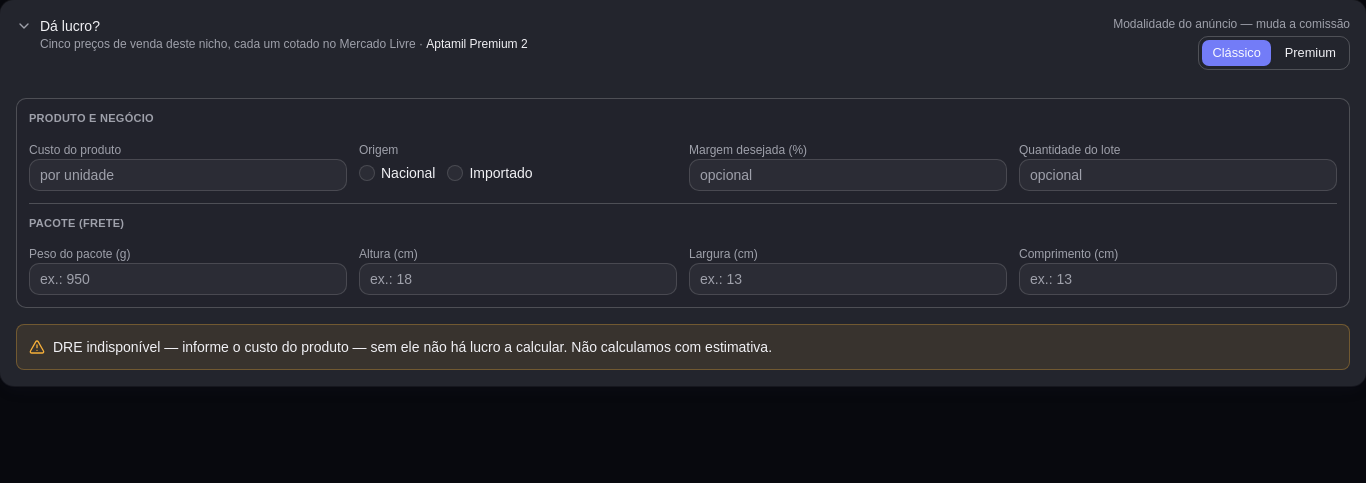
Test: SonarDre — pacote e peso (D-16) › dimensão zerada recusa em vez de derrubar a tela
The width and height of the screenshot is (1366, 483).
Type "42" into the field labelled "Custo do produto" at (188, 175), box [29,159,347,191]
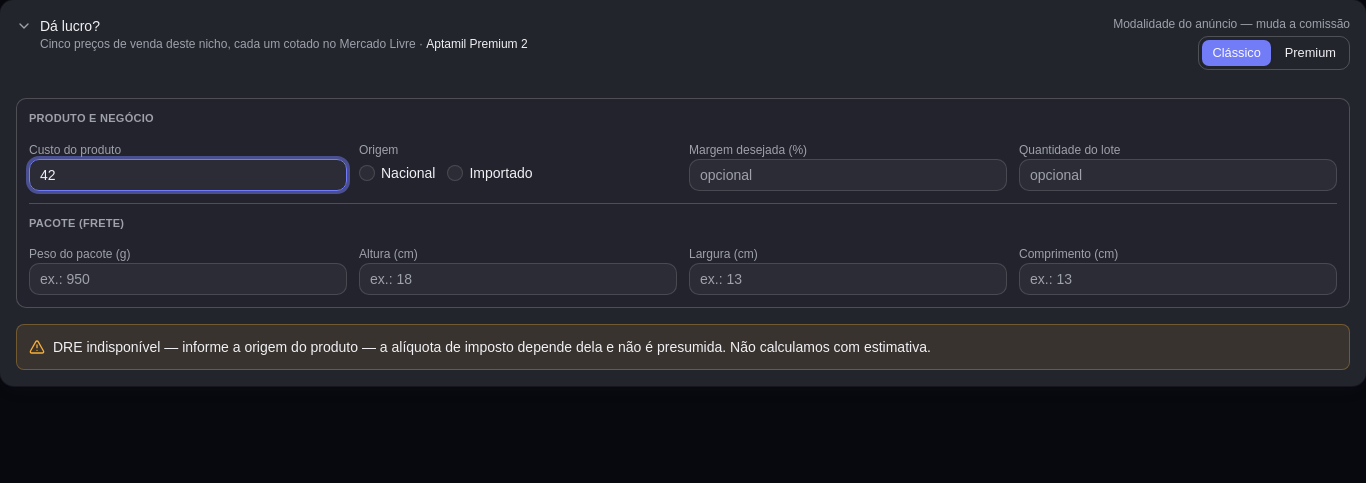
Click the radio button named "nacional" next to "Nacional" at (367, 173), box [359,165,375,181]
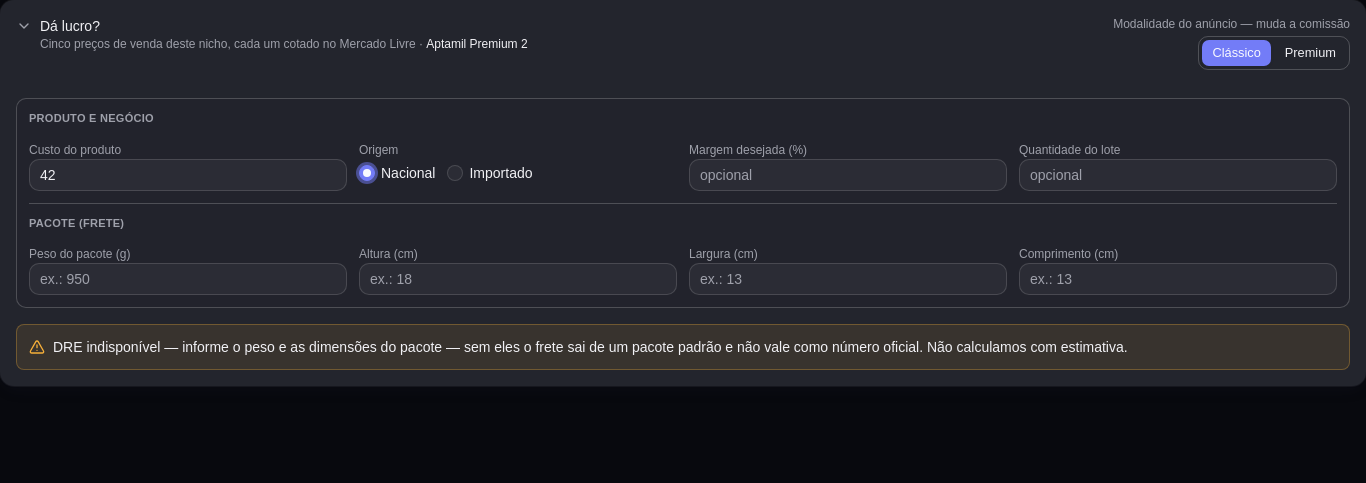
Type "950" into the field labelled "Peso do pacote (g)" at (188, 279), box [29,263,347,295]
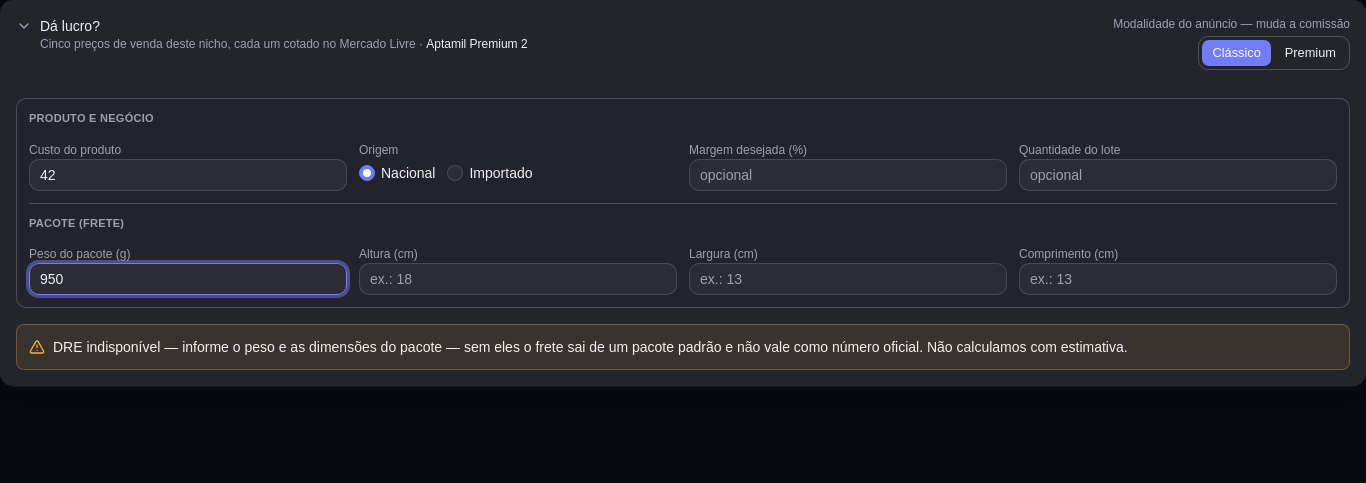
Type "0" into the field labelled "Altura (cm)" at (518, 279), box [359,263,677,295]
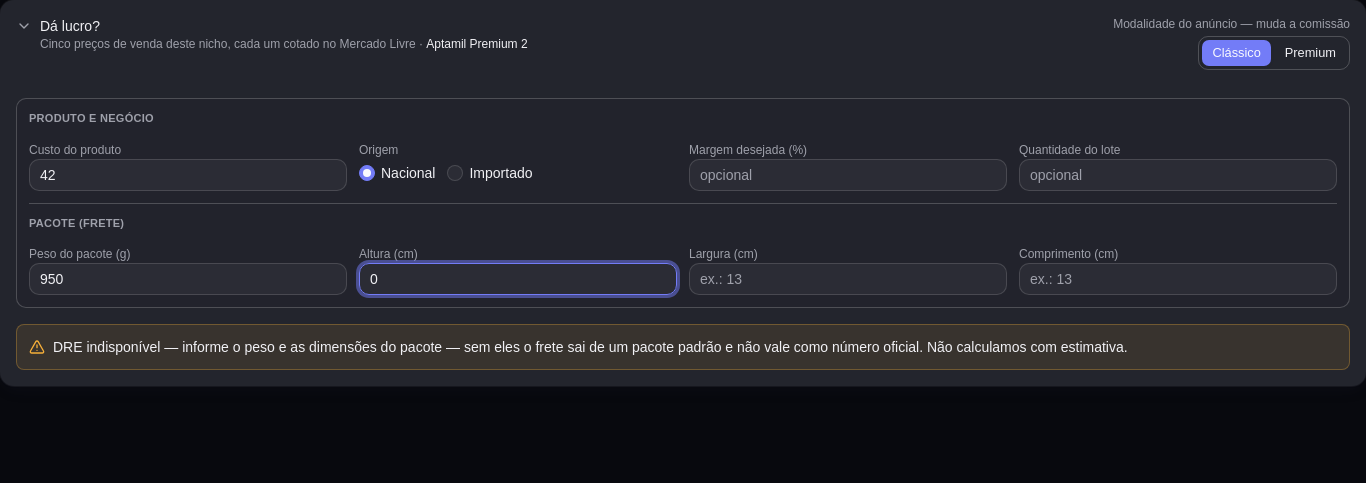
Type "13" into the field labelled "Largura (cm)" at (848, 279), box [689,263,1007,295]
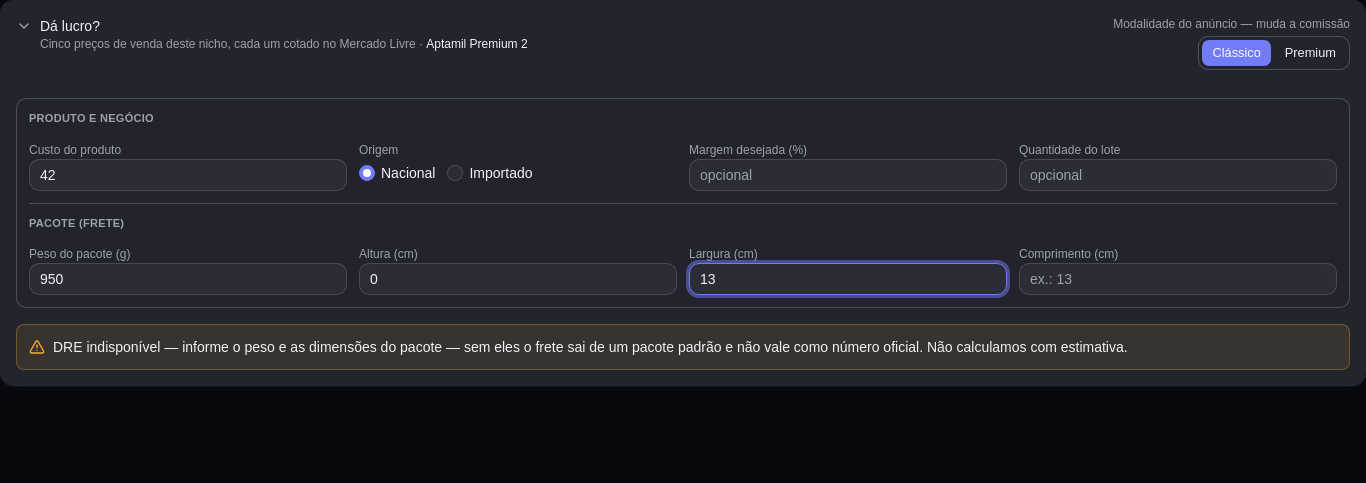
Type "13" into the field labelled "Comprimento (cm)" at (1178, 279), box [1019,263,1337,295]
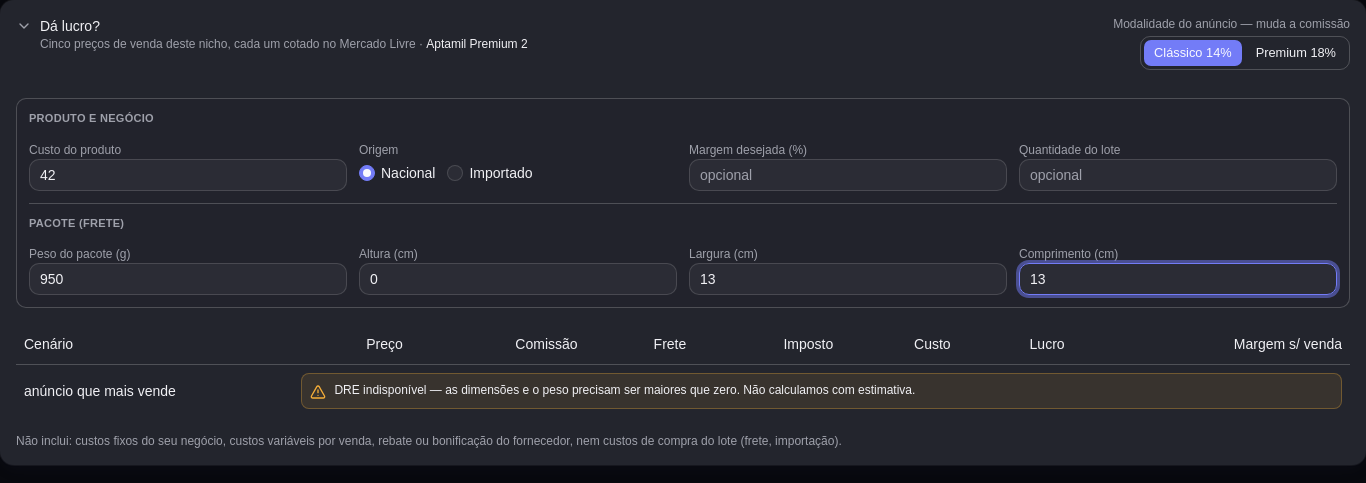
Check: the text "DRE indisponível" is shown, box [334,383,426,397]
Check: the text "maiores que zero" is shown, box [445,383,737,397]
